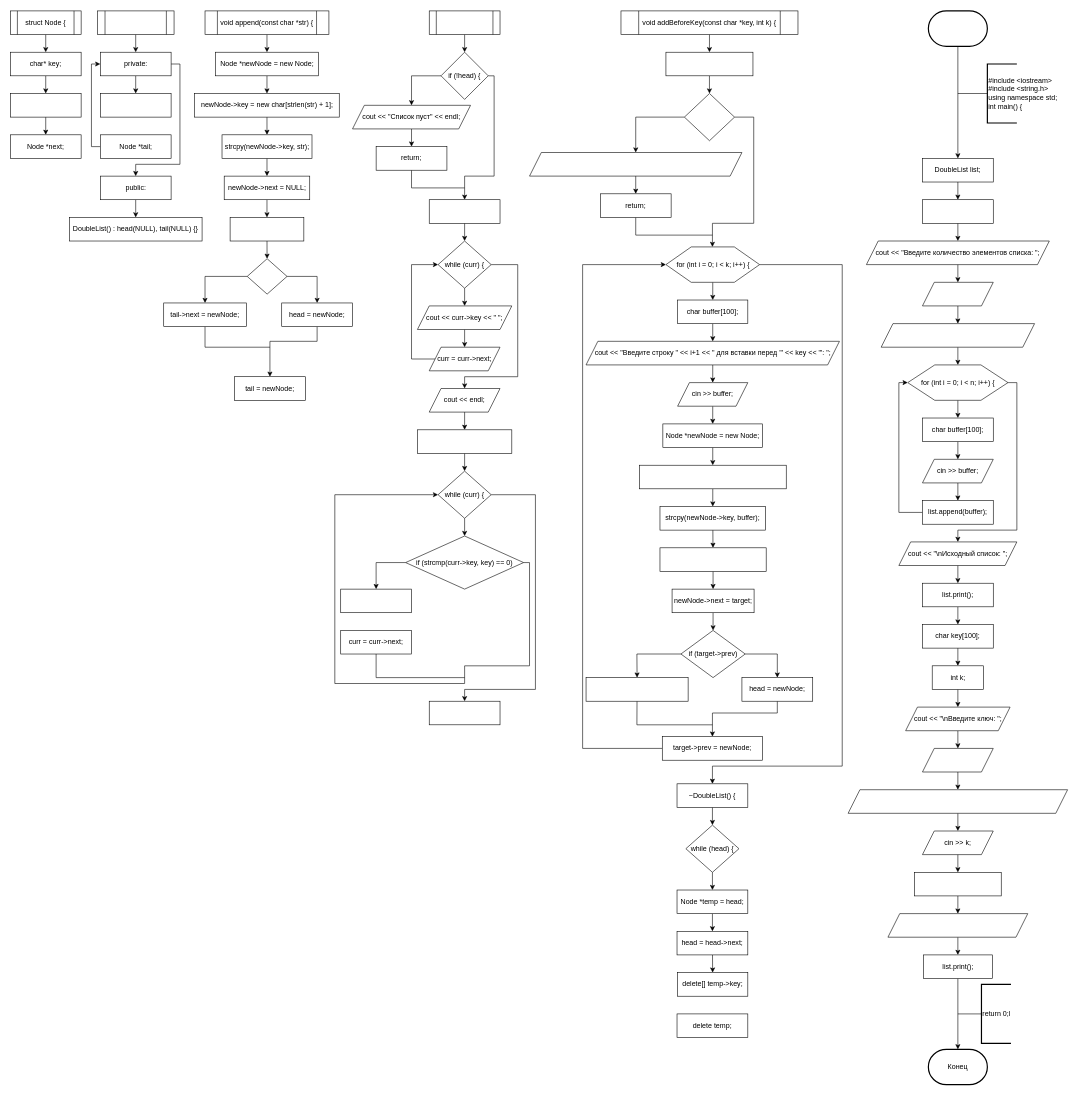
The diagram is 1078 pixels wide and 1095 high, and some of its shapes have lost their labels. The box of each missing label's shape, as (x1, y1, x2, y2) in pixels:
cin >> key;: (922, 748, 993, 772)
cin >> n;: (922, 282, 993, 306)
class DoubleList {: (97, 10, 174, 35)
cout << "Введите количество элементов K для добавления: ";: (848, 789, 1068, 813)
cout << "Введите строки (ключи):" << endl;: (881, 323, 1035, 347)
cout << "Список после добавления: ";: (887, 913, 1028, 937)
cout << "Элемент с ключом '" << key << "' не найден" << endl;: (529, 152, 742, 176)
if (!target) {: (684, 93, 735, 141)
if (tail): (247, 258, 287, 294)
int n;: (922, 199, 993, 223)
list.addBeforeKey(key, k);: (914, 872, 1001, 896)
newNode->key = new char[strlen(buffer) + 1];: (639, 465, 786, 489)
newNode->prev = tail;: (230, 217, 304, 241)
newNode->prev = target->prev;: (659, 547, 766, 571)
Node *curr = head;: (429, 199, 500, 223)
Node *head;: (100, 93, 171, 117)
Node *prev;: (10, 93, 81, 117)
Node *target = find(key);: (665, 52, 753, 76)
Node* find(const char *key) {: (417, 429, 512, 453)
return curr;: (340, 589, 412, 613)
return NULL;: (429, 701, 500, 725)
target->prev->next = newNode;: (585, 677, 688, 701)
void print() {: (429, 10, 500, 35)
Начало: (927, 10, 988, 47)
